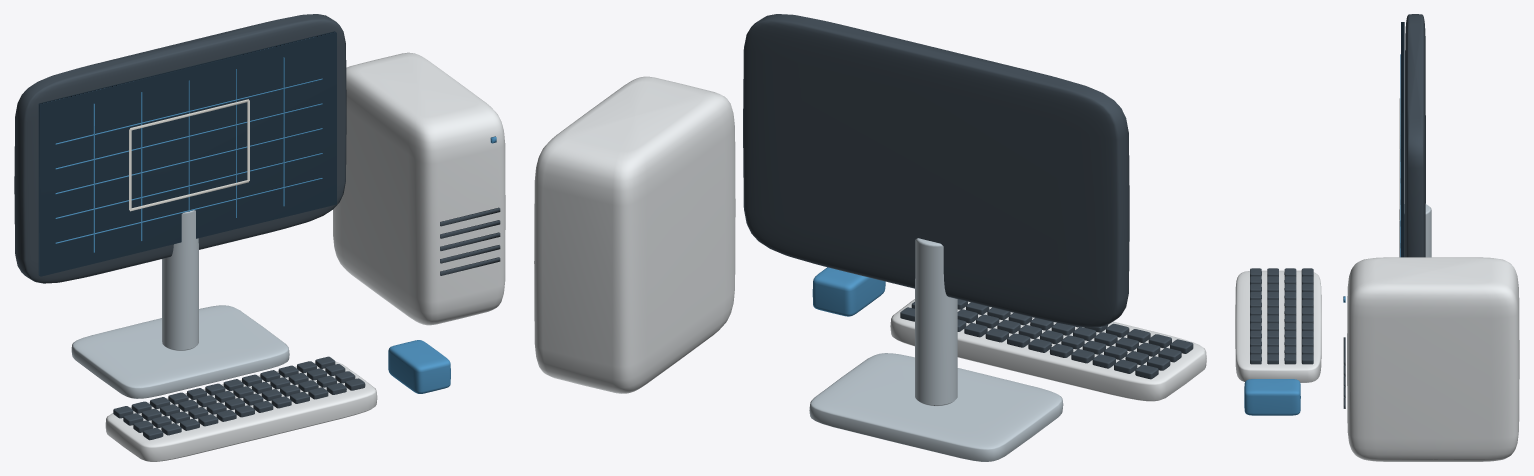
Rendered from computer.glb.
3 views of the same model, side by side, from view 1: azimuth 30°, elevation 25°; view 2: azimuth 150°, elevation 25°; view 3: azimuth 270°, elevation 25° (orthographic). The views are drawn at different scales.
Visible parts, largest first — view 1: Monitor_Display, Computer_Tower, Monitor_Frame, Monitor_Base, Keyboard_Base, Monitor_Stem, Mouse, Screen_Grid_H0.41, Screen_Grid_H0.25, Screen_Grid_H0.33, Screen_Grid_H0.29, Screen_Grid_H0.37; view 2: Monitor_Frame, Computer_Tower, Monitor_Base, Keyboard_Base, Monitor_Stem, Mouse; view 3: Computer_Tower, Keyboard_Base, Monitor_Frame, Mouse, Monitor_Display, Monitor_Stem.
Boxes of the visible parts, x1,y1,x2,y2 form: Monitor_Display: (38, 31, 336, 276); Computer_Tower: (333, 52, 505, 325); Monitor_Frame: (14, 14, 346, 283); Monitor_Base: (71, 305, 289, 398); Keyboard_Base: (105, 361, 377, 461); Monitor_Stem: (162, 210, 198, 350); Mouse: (388, 340, 450, 393); Screen_Grid_H0.41: (55, 78, 322, 144); Screen_Grid_H0.25: (55, 178, 322, 243); Screen_Grid_H0.33: (55, 128, 322, 194); Screen_Grid_H0.29: (55, 153, 322, 218); Screen_Grid_H0.37: (55, 103, 322, 169); Monitor_Frame: (743, 14, 1129, 327); Computer_Tower: (534, 76, 735, 393); Monitor_Base: (809, 353, 1063, 461); Keyboard_Base: (890, 299, 1206, 401); Monitor_Stem: (915, 238, 957, 406); Mouse: (812, 267, 885, 316); Computer_Tower: (1347, 257, 1519, 461); Keyboard_Base: (1235, 270, 1321, 382); Monitor_Frame: (1405, 14, 1425, 257); Mouse: (1244, 379, 1300, 415); Monitor_Display: (1401, 22, 1404, 257); Monitor_Stem: (1399, 204, 1431, 257).
Bounding box in the file's own units: 0.77 × 0.505 × 0.4775.
